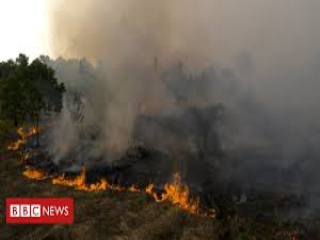fire: (23, 160, 211, 204), (7, 119, 36, 151)
smoke: (46, 7, 267, 158)
